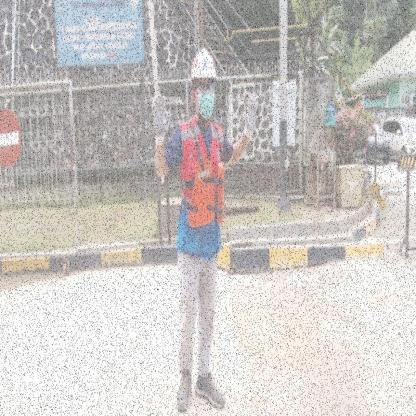boots: (195, 369, 226, 410), (176, 368, 193, 414)
gloves: (150, 93, 172, 146), (243, 93, 259, 141)
goggles: (195, 82, 216, 92)
helmet: (189, 48, 219, 80)
mask: (197, 93, 216, 118)
vest: (188, 157, 226, 228)
